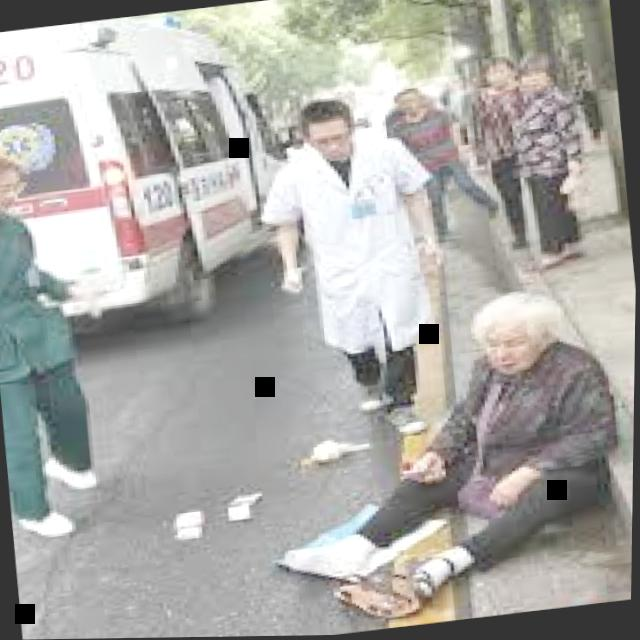Fall-Detected: (242, 268, 637, 637)
